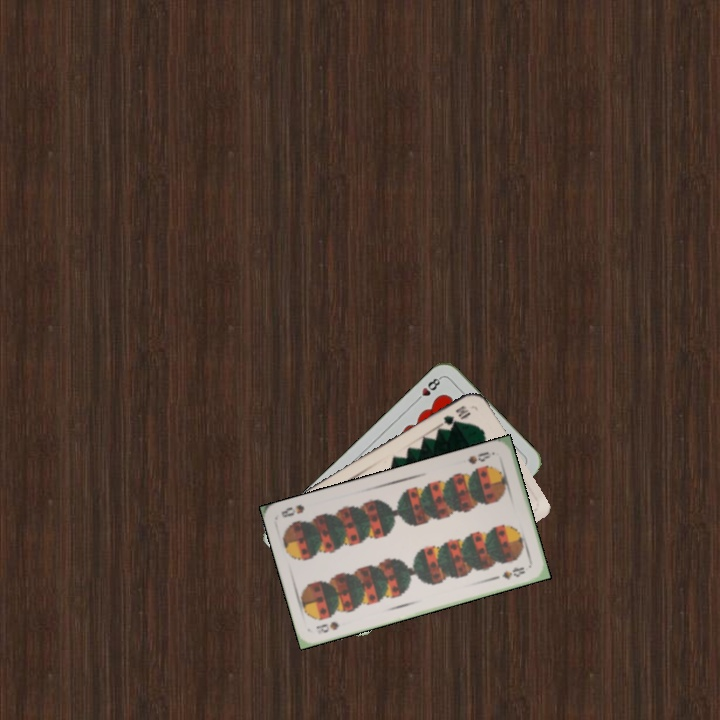G10: (439, 401, 473, 428)
H8: (412, 373, 444, 405)
S8: (464, 447, 497, 467), (312, 617, 341, 635)
